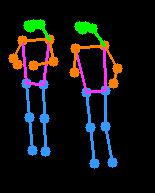normal: (67, 19, 135, 175), (6, 14, 64, 165)
